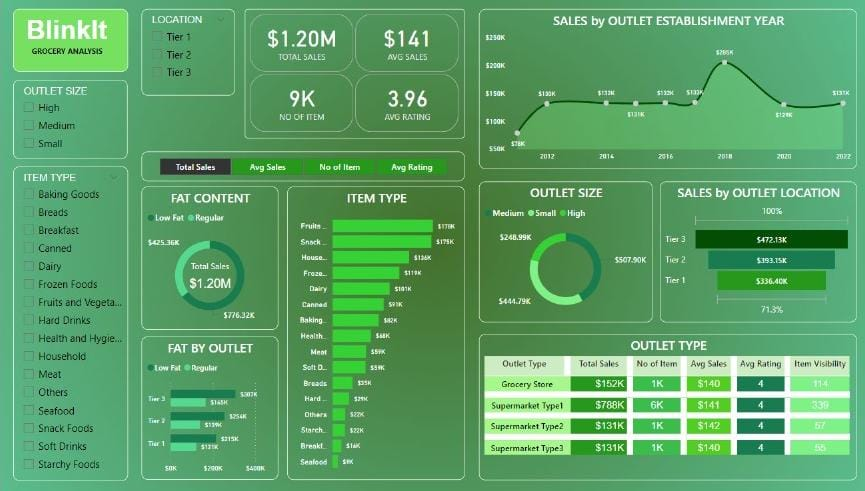

The dashboard page shown, as its layout file describes it:
{"tool":"powerbi","page":{"name":"Page 1","canvas":[1400,800],"ordinal":0},"visuals":[{"type":"textbox","box":[21.4,20.1,185,100.5],"z":0},{"type":"slicer","fields":{"Values":["metrics.metrics"]},"box":[227.9,249.3,520.1,48.3],"z":2000},{"type":"donutChart","title":"FAT CONTENT","fields":{"Y":["blinkit_grocery_data.Total Sales"],"Category":["blinkit_grocery_data.Item Fat Content"]},"box":[227.9,305.6,219.8,230.6],"z":3000},{"type":"cardVisual","fields":{"Data":["blinkit_grocery_data.Total Sales"]},"box":[282.8,407.5,111.3,79.1],"z":4000},{"type":"clusteredBarChart","title":"FAT BY OUTLET","fields":{"Y":["blinkit_grocery_data.Total Sales"],"Category":["blinkit_grocery_data.Outlet Location Type"],"Series":["blinkit_grocery_data.Item Fat Content"]},"box":[227.9,546.9,219.8,230.6],"z":5000},{"type":"barChart","title":"ITEM TYPE","fields":{"Y":["blinkit_grocery_data.Total Sales"],"Category":["blinkit_grocery_data.Item Type"]},"box":[462.5,305.6,285.5,471.9],"z":6000},{"type":"lineChart","title":"SALES by OUTLET ESTABLISHMENT YEAR","fields":{"Y":["blinkit_grocery_data.Total Sales"],"Category":["blinkit_grocery_data.Outlet Establishment Year"]},"box":[770.2,20.3,608,257.2],"z":7000},{"type":"donutChart","title":"OUTLET SIZE","fields":{"Y":["blinkit_grocery_data.Total Sales"],"Category":["blinkit_grocery_data.Outlet Size"]},"box":[770.2,297.8,279.1,226.1],"z":8000},{"type":"funnel","title":"SALES by OUTLET LOCATION","fields":{"Category":["blinkit_grocery_data.Outlet Location Type"],"Y":["blinkit_grocery_data.Total Sales"]},"box":[1061.7,297.8,316.5,226.1],"z":9000},{"type":"pivotTable","title":"OUTLET TYPE","fields":{"Rows":["blinkit_grocery_data.Outlet Type"],"Values":["blinkit_grocery_data.Total Sales","blinkit_grocery_data.No of Item","blinkit_grocery_data.Avg Sales","blinkit_grocery_data.Avg Rating","Sum(blinkit_grocery_data.Item Visibility)"]},"box":[770.2,542.5,608,235.4],"z":10000},{"type":"slicer","title":"FAT CONTENT","fields":{"Values":["blinkit_grocery_data.Outlet Location Type"]},"box":[227.9,20.1,150.1,139.4],"z":11000},{"type":"slicer","title":"FAT CONTENT","fields":{"Values":["blinkit_grocery_data.Outlet Size"]},"box":[21.4,134,183.6,127.3],"z":12000},{"type":"slicer","title":"FAT CONTENT","fields":{"Values":["blinkit_grocery_data.Item Type"]},"box":[21.4,273.5,185,505.4],"z":13000},{"type":"cardVisual","fields":{"Data":["blinkit_grocery_data.Total Sales","blinkit_grocery_data.Avg Sales","blinkit_grocery_data.No of Item","blinkit_grocery_data.Avg Rating"]},"box":[394.1,20.1,353.9,207.8],"z":13001}]}

Visuals, with their boxes in screenshot pixels (x1, y1, x2, y2), scaled from the page's 1400x800 canvas onto the 865x491 screenshot:
textbox: box=[13, 12, 128, 74]
slicer - metrics.metrics: box=[141, 153, 462, 183]
"FAT CONTENT" donutChart: box=[141, 188, 277, 329]
cardVisual - blinkit_grocery_data.Total Sales: box=[175, 250, 243, 299]
"FAT BY OUTLET" clusteredBarChart: box=[141, 336, 277, 477]
"ITEM TYPE" barChart: box=[286, 188, 462, 477]
"SALES by OUTLET ESTABLISHMENT YEAR" lineChart: box=[476, 12, 852, 170]
"OUTLET SIZE" donutChart: box=[476, 183, 648, 322]
"SALES by OUTLET LOCATION" funnel: box=[656, 183, 852, 322]
"OUTLET TYPE" pivotTable: box=[476, 333, 852, 477]
"FAT CONTENT" slicer: box=[141, 12, 234, 98]
"FAT CONTENT" slicer: box=[13, 82, 127, 160]
"FAT CONTENT" slicer: box=[13, 168, 128, 478]
cardVisual - blinkit_grocery_data.Total Sales x blinkit_grocery_data.Avg Sales: box=[243, 12, 462, 140]
